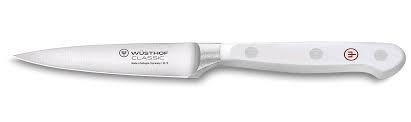Knife: (12, 40, 406, 79)
